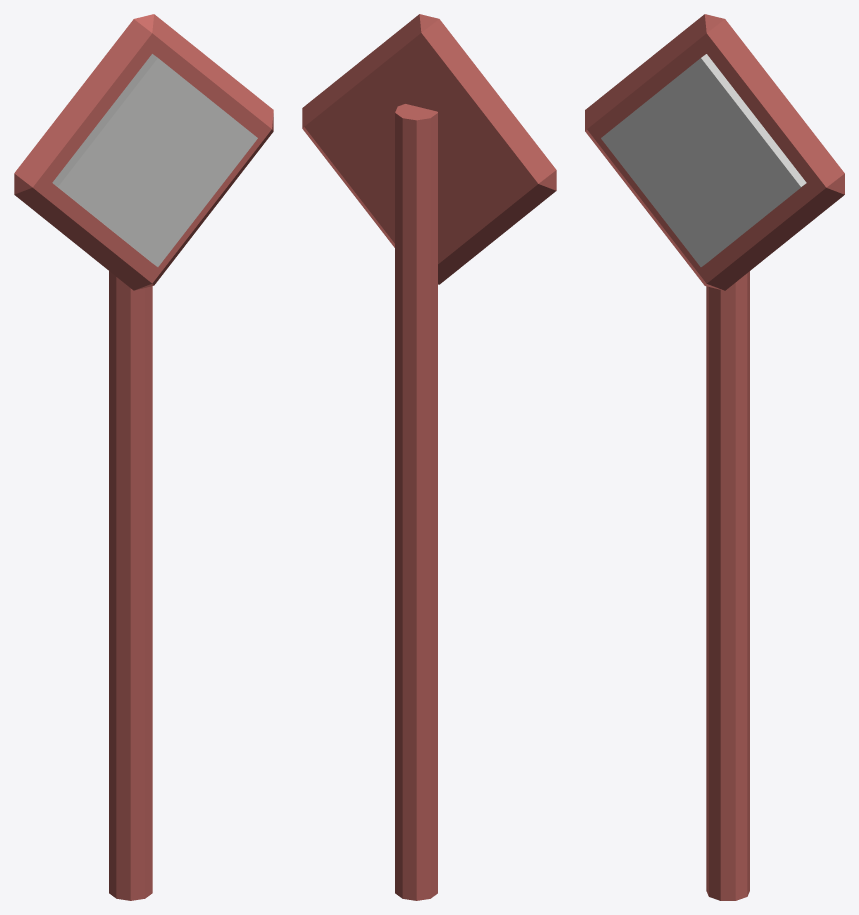
File: TrafficSign3.glb
3 views of the same model, side by side, from view 1: azimuth 30°, elevation 25°; view 2: azimuth 150°, elevation 25°; view 3: azimuth 330°, elevation 25° (orthographic). The views are drawn at different scales.
Parts seen in each view (by area): view 1: TrafficSign3.obj; view 2: TrafficSign3.obj; view 3: TrafficSign3.obj.
Boxes of the visible parts, x1,y1,x2,y2 form: TrafficSign3.obj: (14, 14, 273, 900); TrafficSign3.obj: (302, 14, 556, 900); TrafficSign3.obj: (585, 14, 844, 900).
Bounding box in the file's own units: 0.4369 × 1.42 × 0.1113.
